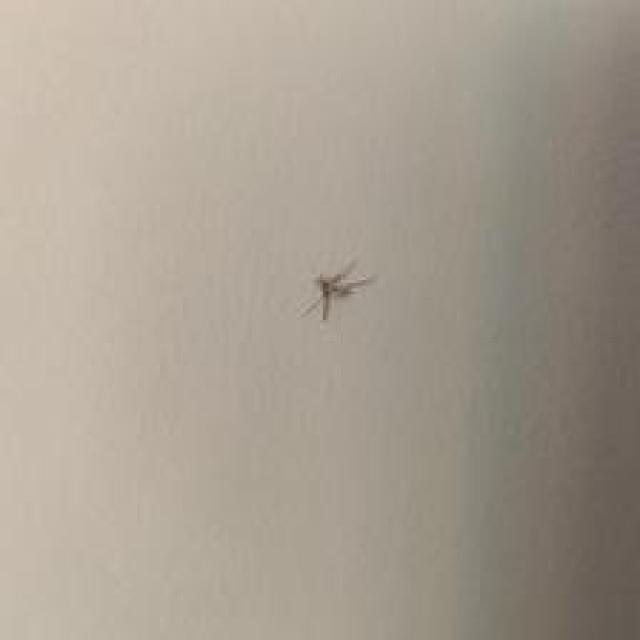Culex: (298, 258, 373, 322)
